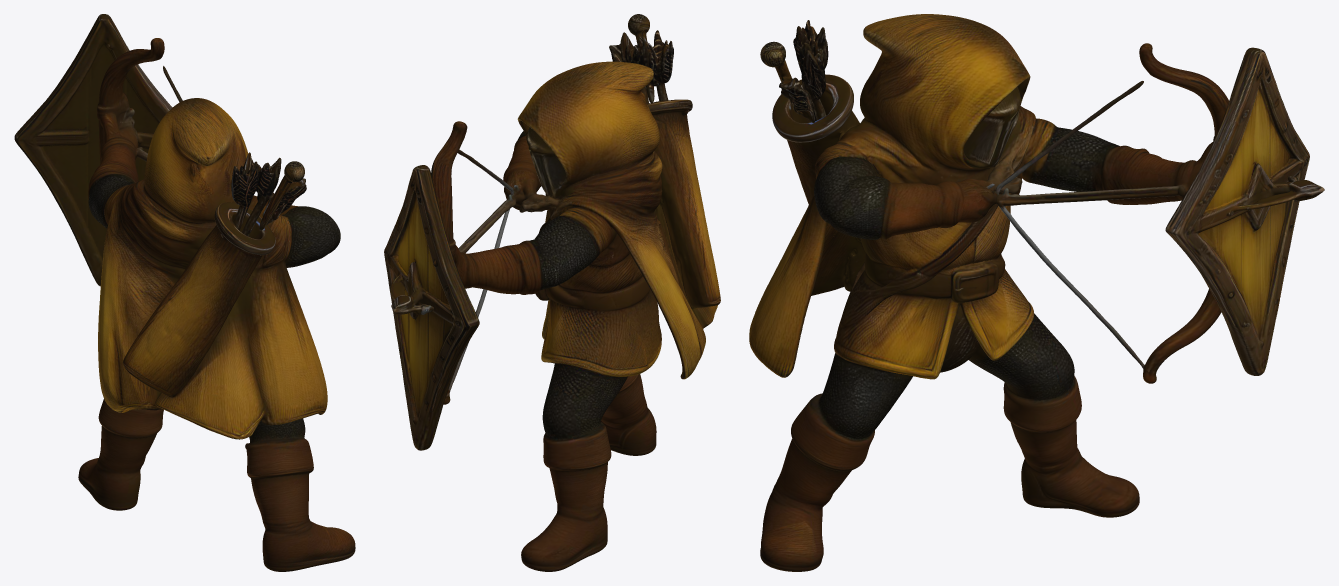
The picture shows the model from 3 angles, left to right: view 1: azimuth 30°, elevation 25°; view 2: azimuth 150°, elevation 25°; view 3: azimuth 270°, elevation 25°; orthographic projection. The views are drawn at different scales.
Parts seen in each view (by area): view 1: tripo_node_b6dc88d7-e82c-403f-92e4-85e8d27010f9; view 2: tripo_node_b6dc88d7-e82c-403f-92e4-85e8d27010f9; view 3: tripo_node_b6dc88d7-e82c-403f-92e4-85e8d27010f9.
Boxes of the visible parts, x1,y1,x2,y2 form: tripo_node_b6dc88d7-e82c-403f-92e4-85e8d27010f9: (14,14,355,571); tripo_node_b6dc88d7-e82c-403f-92e4-85e8d27010f9: (384,14,720,571); tripo_node_b6dc88d7-e82c-403f-92e4-85e8d27010f9: (749,14,1324,571).
Size of the model in its own units: 0.4823 by 0.9677 by 1.
Materials: 1 (1 with a texture image).
